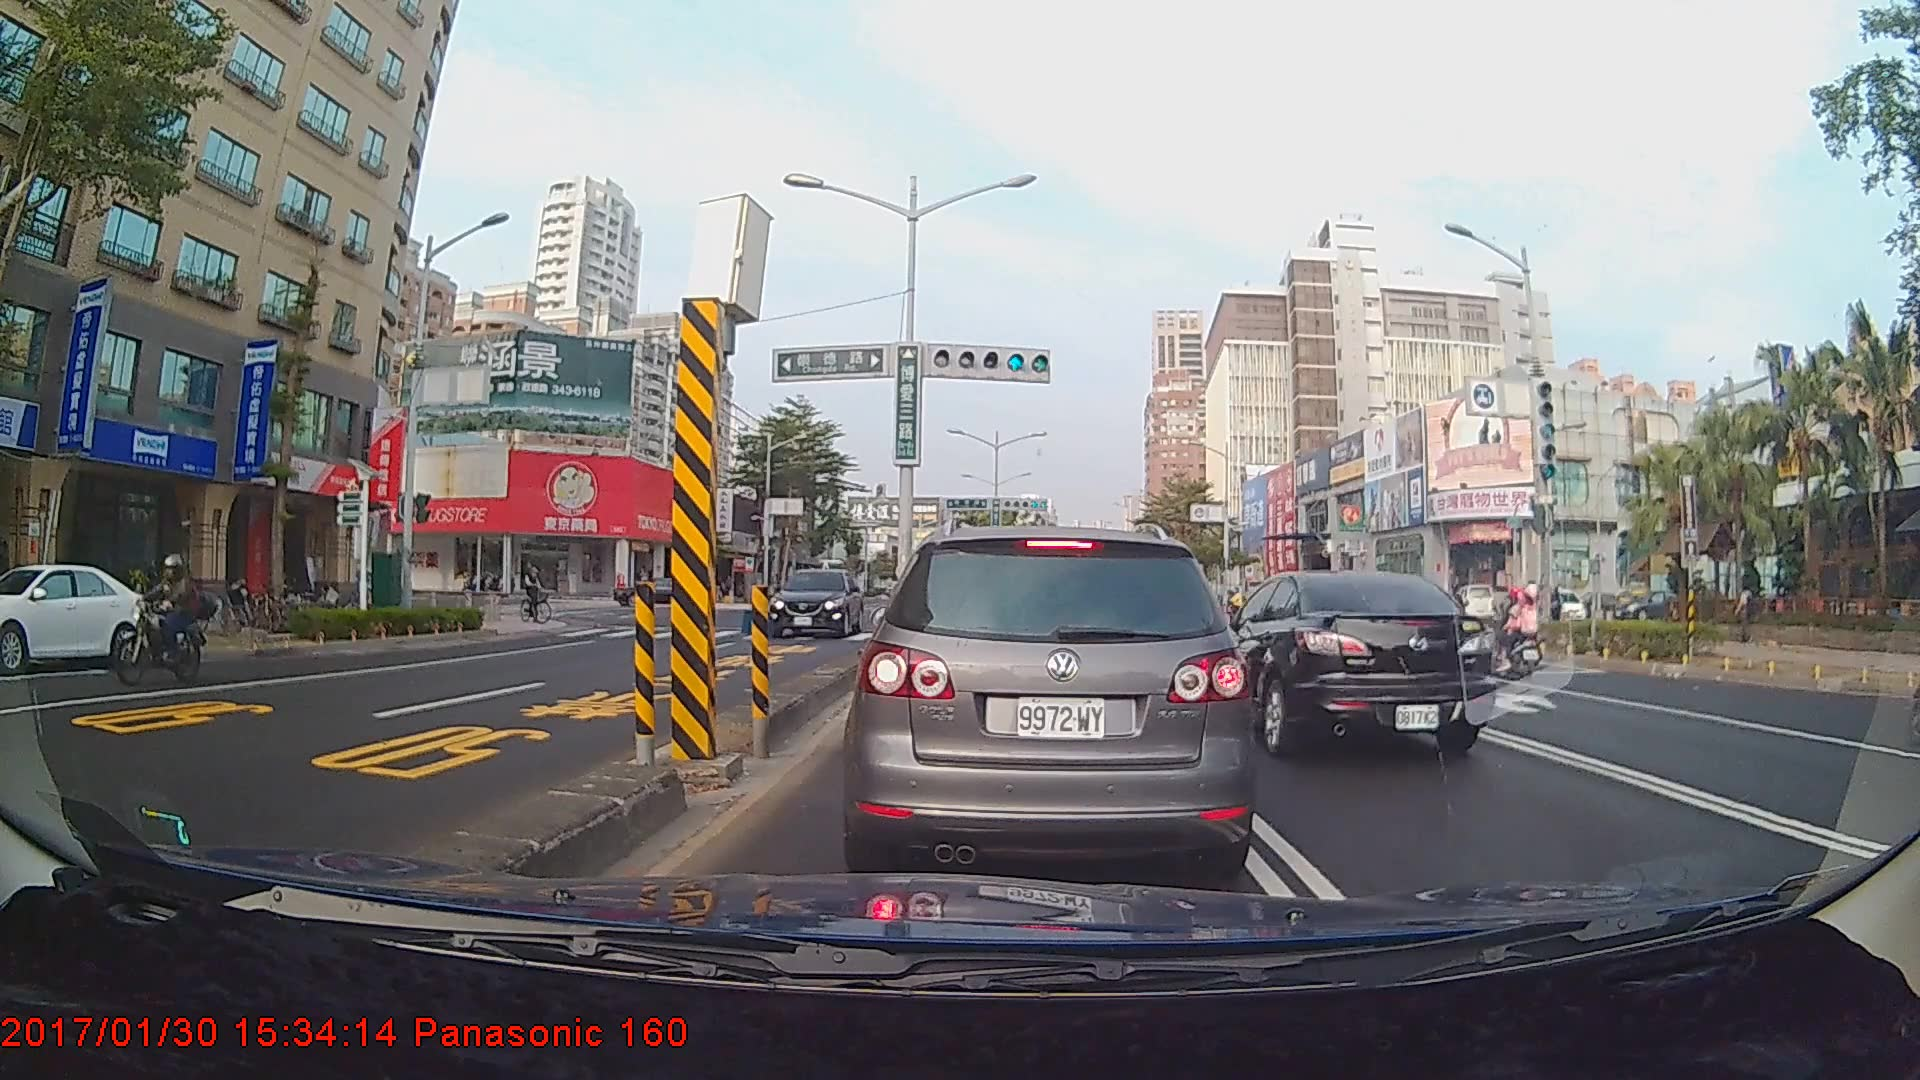pedestrian: (1733, 582, 1758, 646)
rider: (112, 549, 213, 688), (518, 559, 561, 629)
vehicle: (852, 522, 1247, 882), (1188, 567, 1501, 761), (0, 561, 160, 671), (768, 568, 865, 642), (610, 575, 714, 606)
